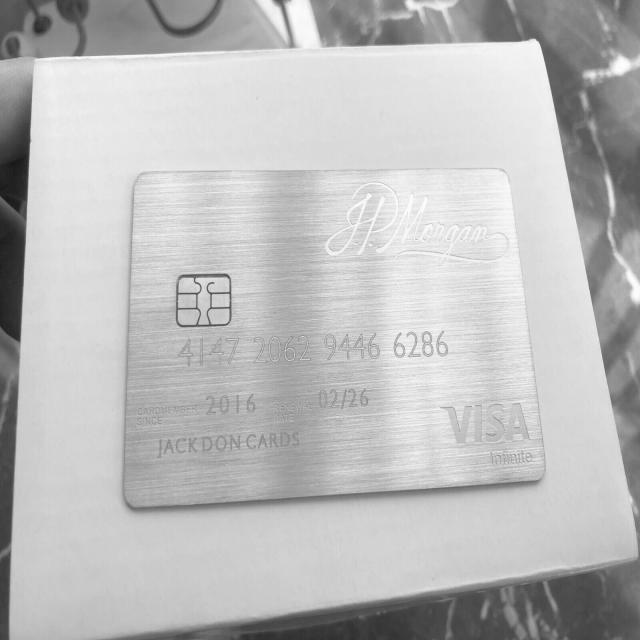card: (124, 166, 544, 512)
